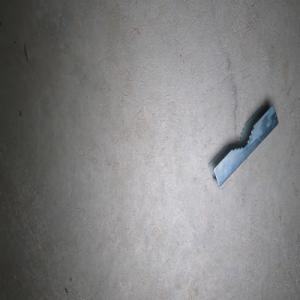ClampPart: (207, 103, 279, 187)
